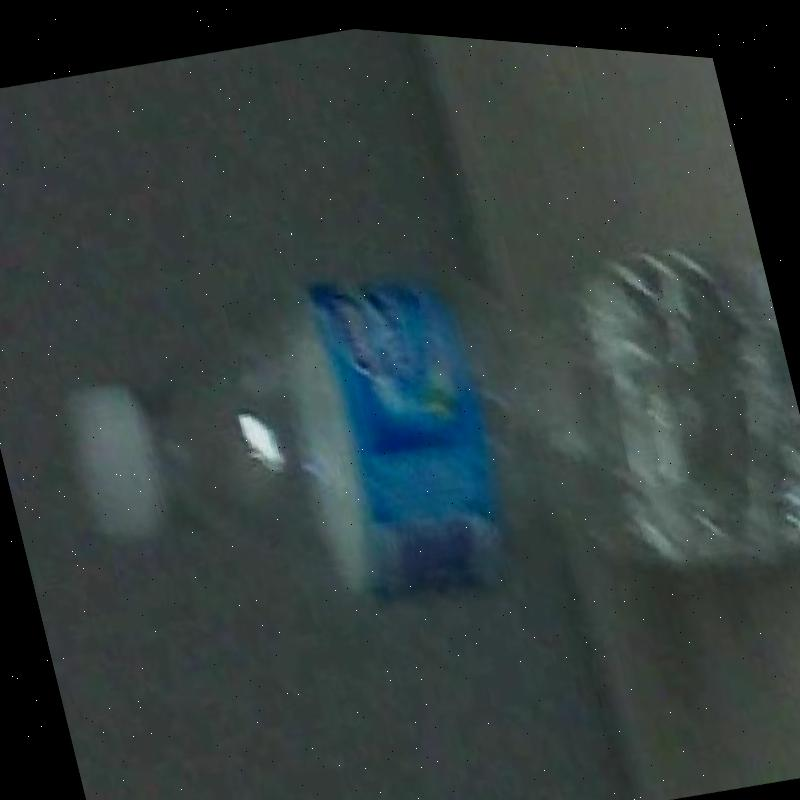botella: (32, 145, 800, 716)
